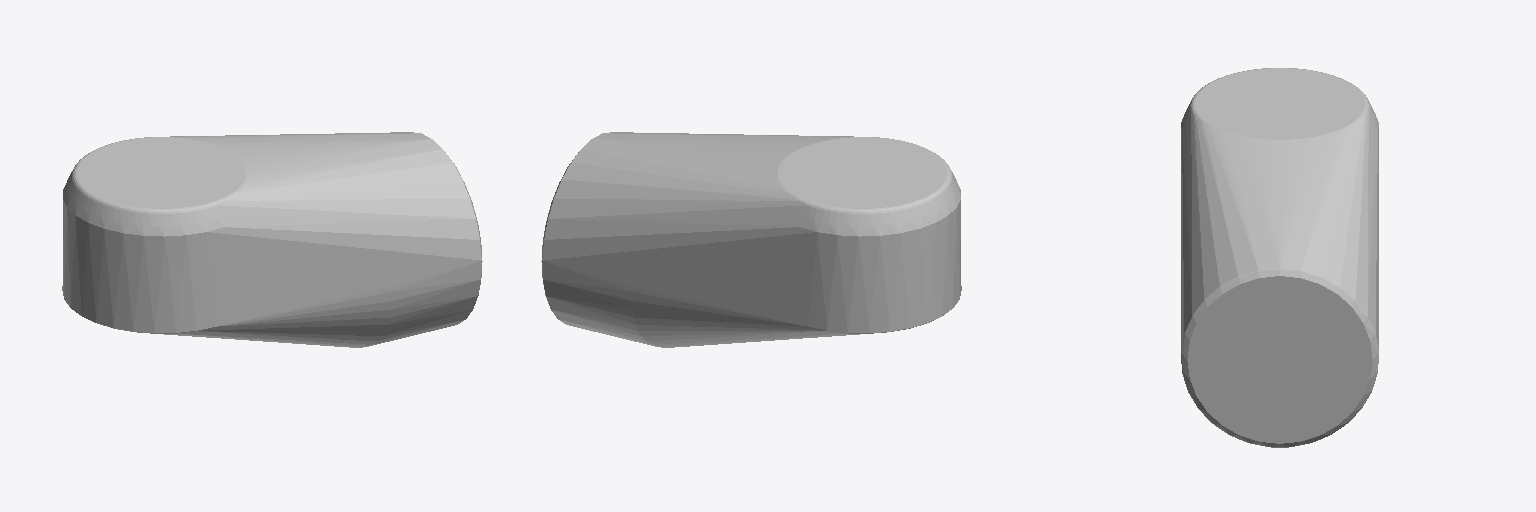
The model's file is elbow_flex_link_collision.obj.
3 renders of one model, left to right at view 1: azimuth 30°, elevation 25°; view 2: azimuth 150°, elevation 25°; view 3: azimuth 270°, elevation 25°, orthographic.
Bounding box in the file's own units: 0.218 × 0.1225 × 0.104.